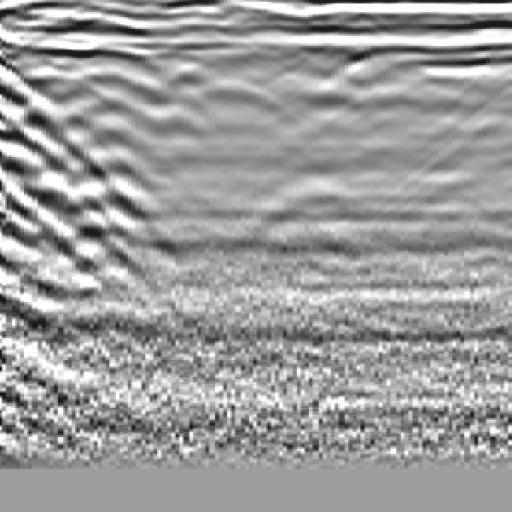metalic: (230, 38, 406, 297)
nonmetalic: (1, 47, 112, 297)
